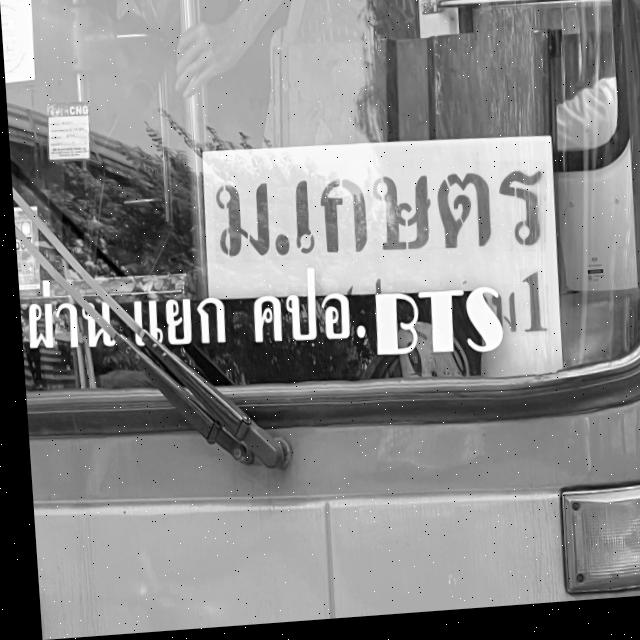BMTA-bus: (0, 0, 640, 640)
Destination-Sign-Extra-Bus-Expressway: (195, 130, 561, 397)
